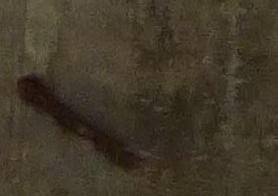Exposed reinforcement: (16, 76, 141, 173)
